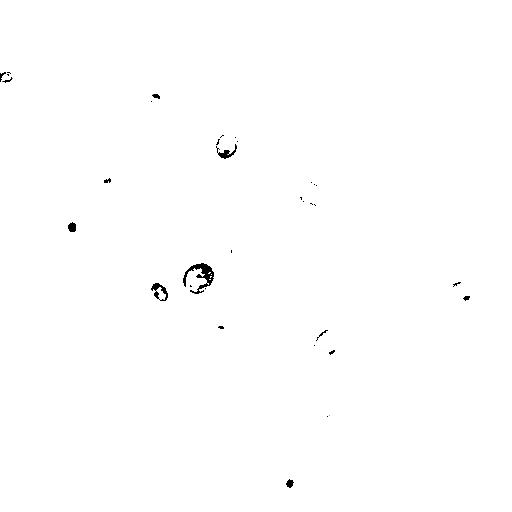micro-algae: (53, 147, 123, 213), (470, 78, 511, 141), (86, 167, 130, 204), (311, 329, 348, 366), (55, 208, 88, 244), (181, 262, 217, 295), (446, 279, 481, 311), (459, 329, 491, 364), (295, 178, 326, 208), (319, 357, 350, 387), (276, 463, 305, 495), (214, 130, 240, 159), (150, 281, 171, 302), (1, 69, 14, 85)
